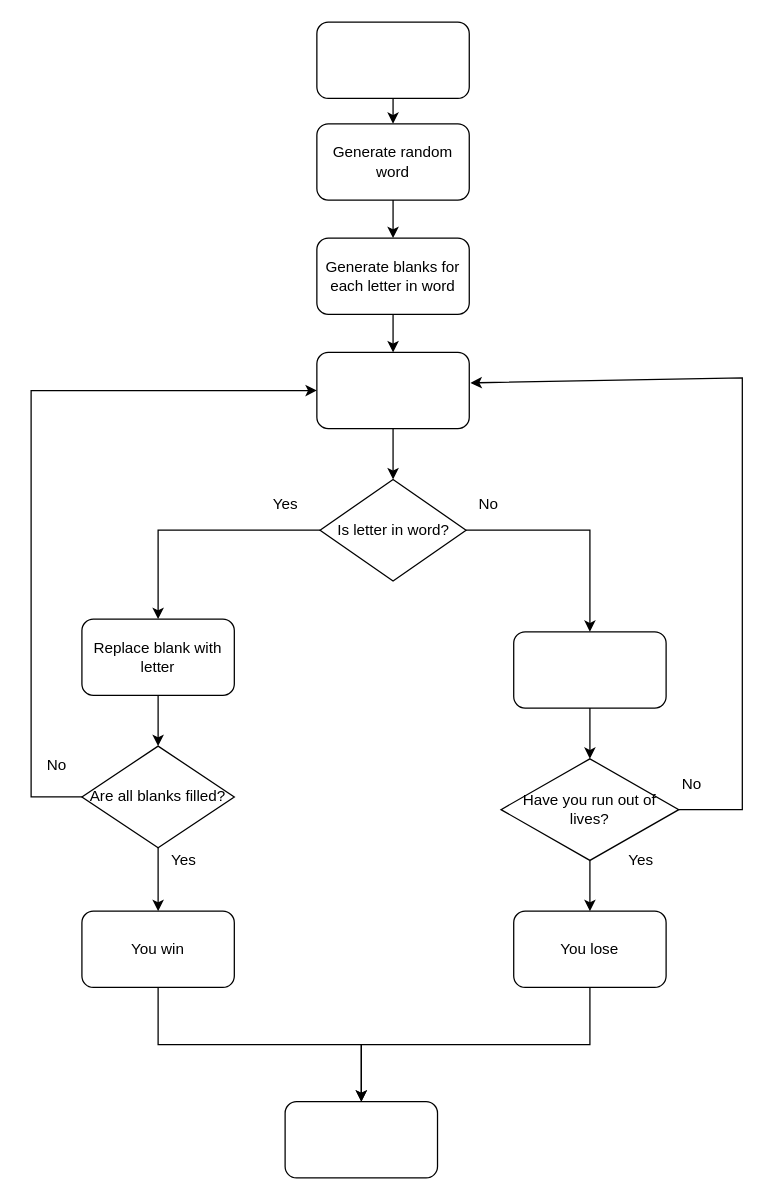
Image size: 775x1200. Some labels were removed from this diagram. The shapes that lost their labels are listed below. From the top down, each one's centre as x and y in pixels, then its label:
pixel 392 59: Start
pixel 392 390: Ask user to guess a letter
pixel 589 669: Lose a life
pixel 361 1139: Game over
